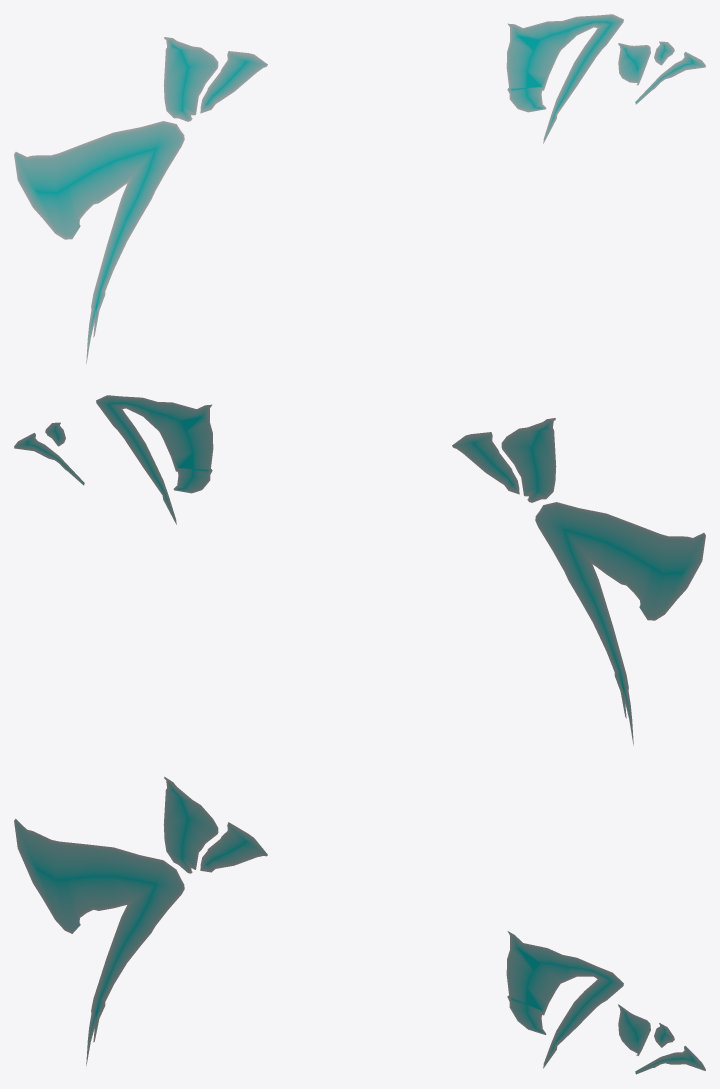
Rendered from SM_EFF_Text_ShadowStitching_01.glb.
The picture shows the model from 3 angles, top to bottom: view 1: azimuth 30°, elevation 25°; view 2: azimuth 150°, elevation 25°; view 3: azimuth 330°, elevation 25°; orthographic projection.
Visible parts, largest first — view 1: SM_EFF_Text_ShadowStitching_01; view 2: SM_EFF_Text_ShadowStitching_01; view 3: SM_EFF_Text_ShadowStitching_01.
Part boxes in pixels (<box>): SM_EFF_Text_ShadowStitching_01: <box>14,14,705,364</box>; SM_EFF_Text_ShadowStitching_01: <box>14,395,705,745</box>; SM_EFF_Text_ShadowStitching_01: <box>14,776,705,1074</box>.
Size of the model in its own units: 2.57 by 1.1 by 0.00017.
